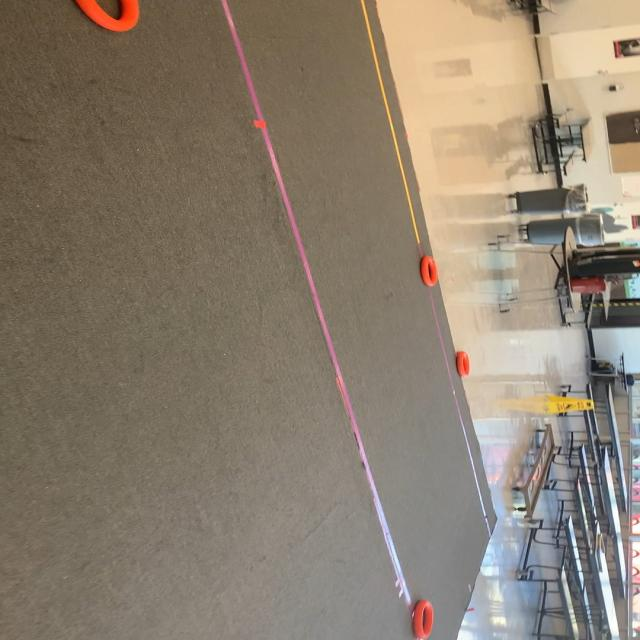notes: (73, 0, 143, 33), (411, 599, 432, 637), (421, 253, 440, 287), (456, 351, 475, 379)
